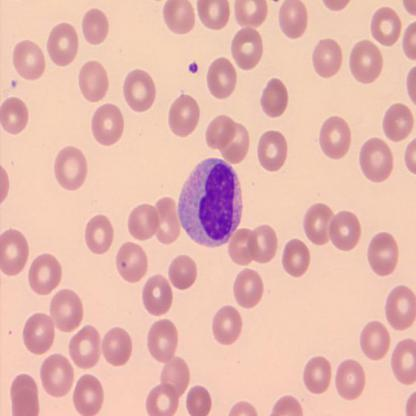Metamyelocyte: (176, 156, 245, 248)
